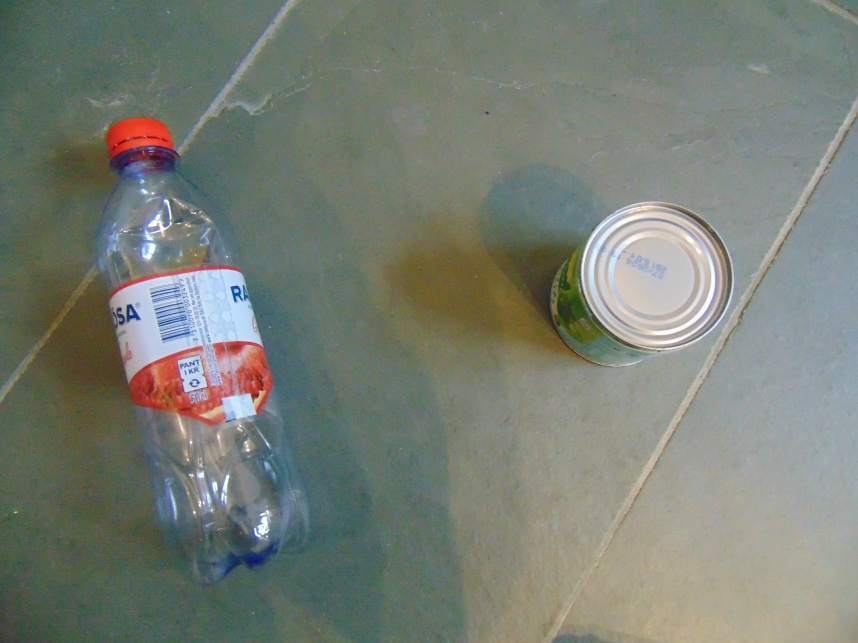metal_can: (549, 199, 734, 368)
plastic_bottle: (96, 116, 312, 589)
